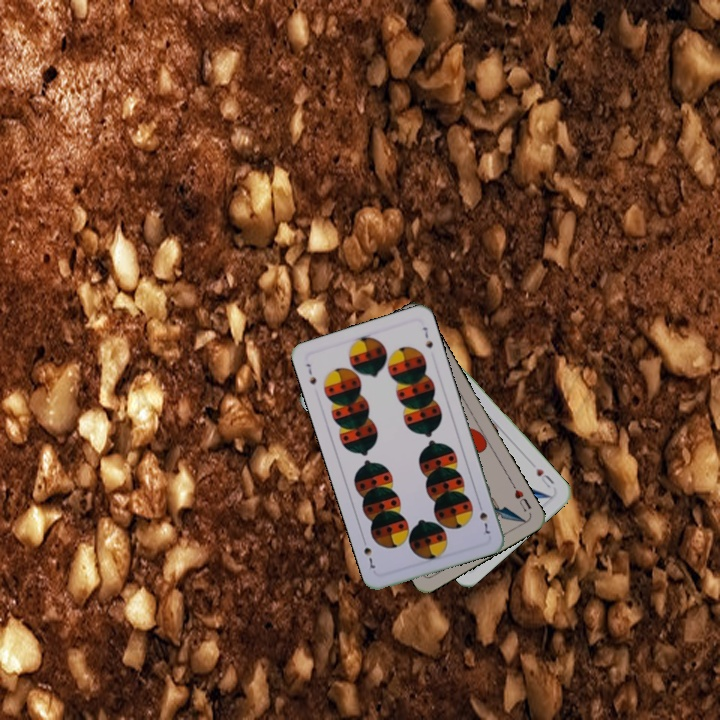HU: (507, 479, 534, 515), (531, 464, 557, 490)
S7: (474, 499, 493, 537), (302, 359, 319, 387)
